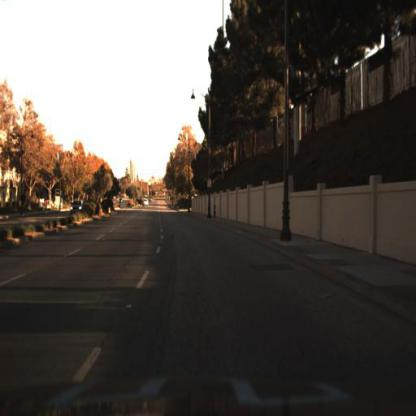car: (69, 198, 84, 216), (139, 195, 151, 214)
